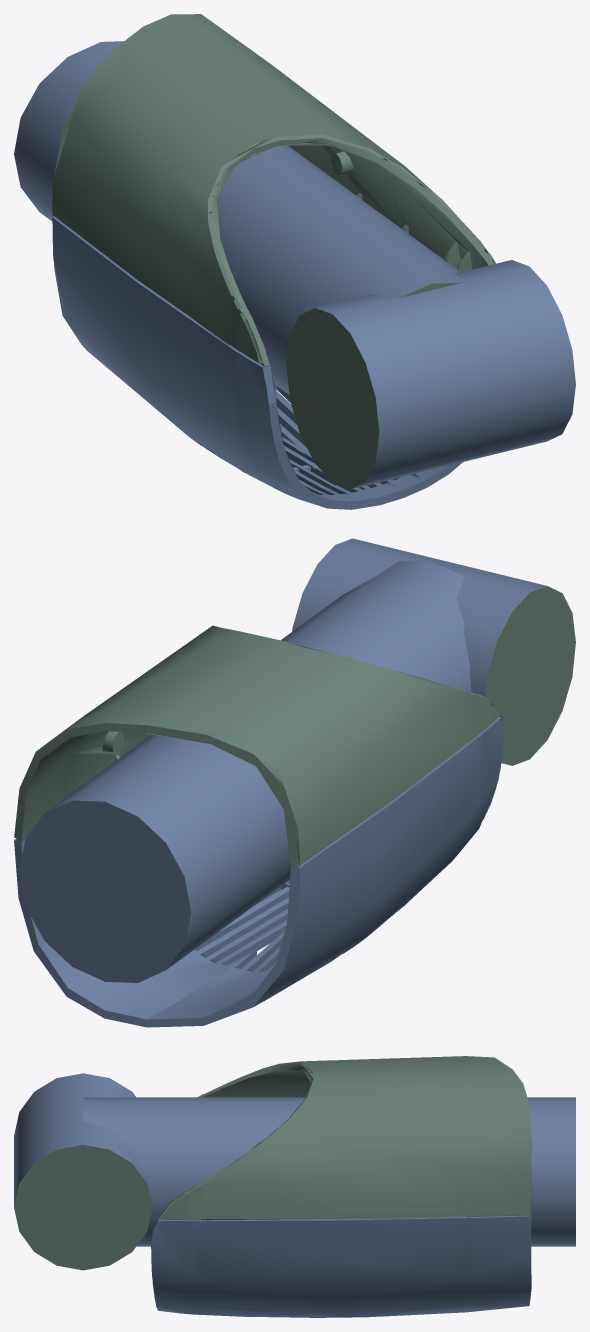
The model's file is icub_r_thigh.dae.
3 renders of one model, top to bottom at view 1: azimuth 30°, elevation 25°; view 2: azimuth 150°, elevation 25°; view 3: azimuth 270°, elevation 25°, orthographic. The views are drawn at different scales.
Parts seen in each view (by area): view 1: r_upperleg_mesh, r_thigh_cyl2_mesh, r_thigh_cyl1_mesh; view 2: r_upperleg_mesh, r_thigh_cyl1_mesh, r_thigh_cyl2_mesh; view 3: r_upperleg_mesh, r_thigh_cyl2_mesh, r_thigh_cyl1_mesh.
Part boxes in pixels (left/top/right/bottom): r_upperleg_mesh: left=52, top=14, right=495, bottom=509; r_thigh_cyl2_mesh: left=286, top=260, right=575, bottom=489; r_thigh_cyl1_mesh: left=14, top=41, right=463, bottom=394; r_upperleg_mesh: left=14, top=625, right=503, bottom=1027; r_thigh_cyl1_mesh: left=19, top=561, right=471, bottom=982; r_thigh_cyl2_mesh: left=292, top=538, right=575, bottom=765; r_upperleg_mesh: left=151, top=1056, right=531, bottom=1317; r_thigh_cyl2_mesh: left=14, top=1073, right=152, bottom=1270; r_thigh_cyl1_mesh: left=83, top=1097, right=575, bottom=1246.
Bounding box in the file's own units: 0.1029 × 0.1178 × 0.2555.
